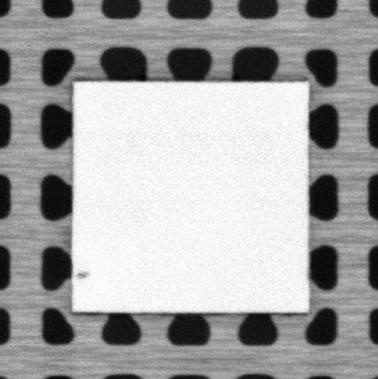DIE_INK: (74, 269, 89, 280)
